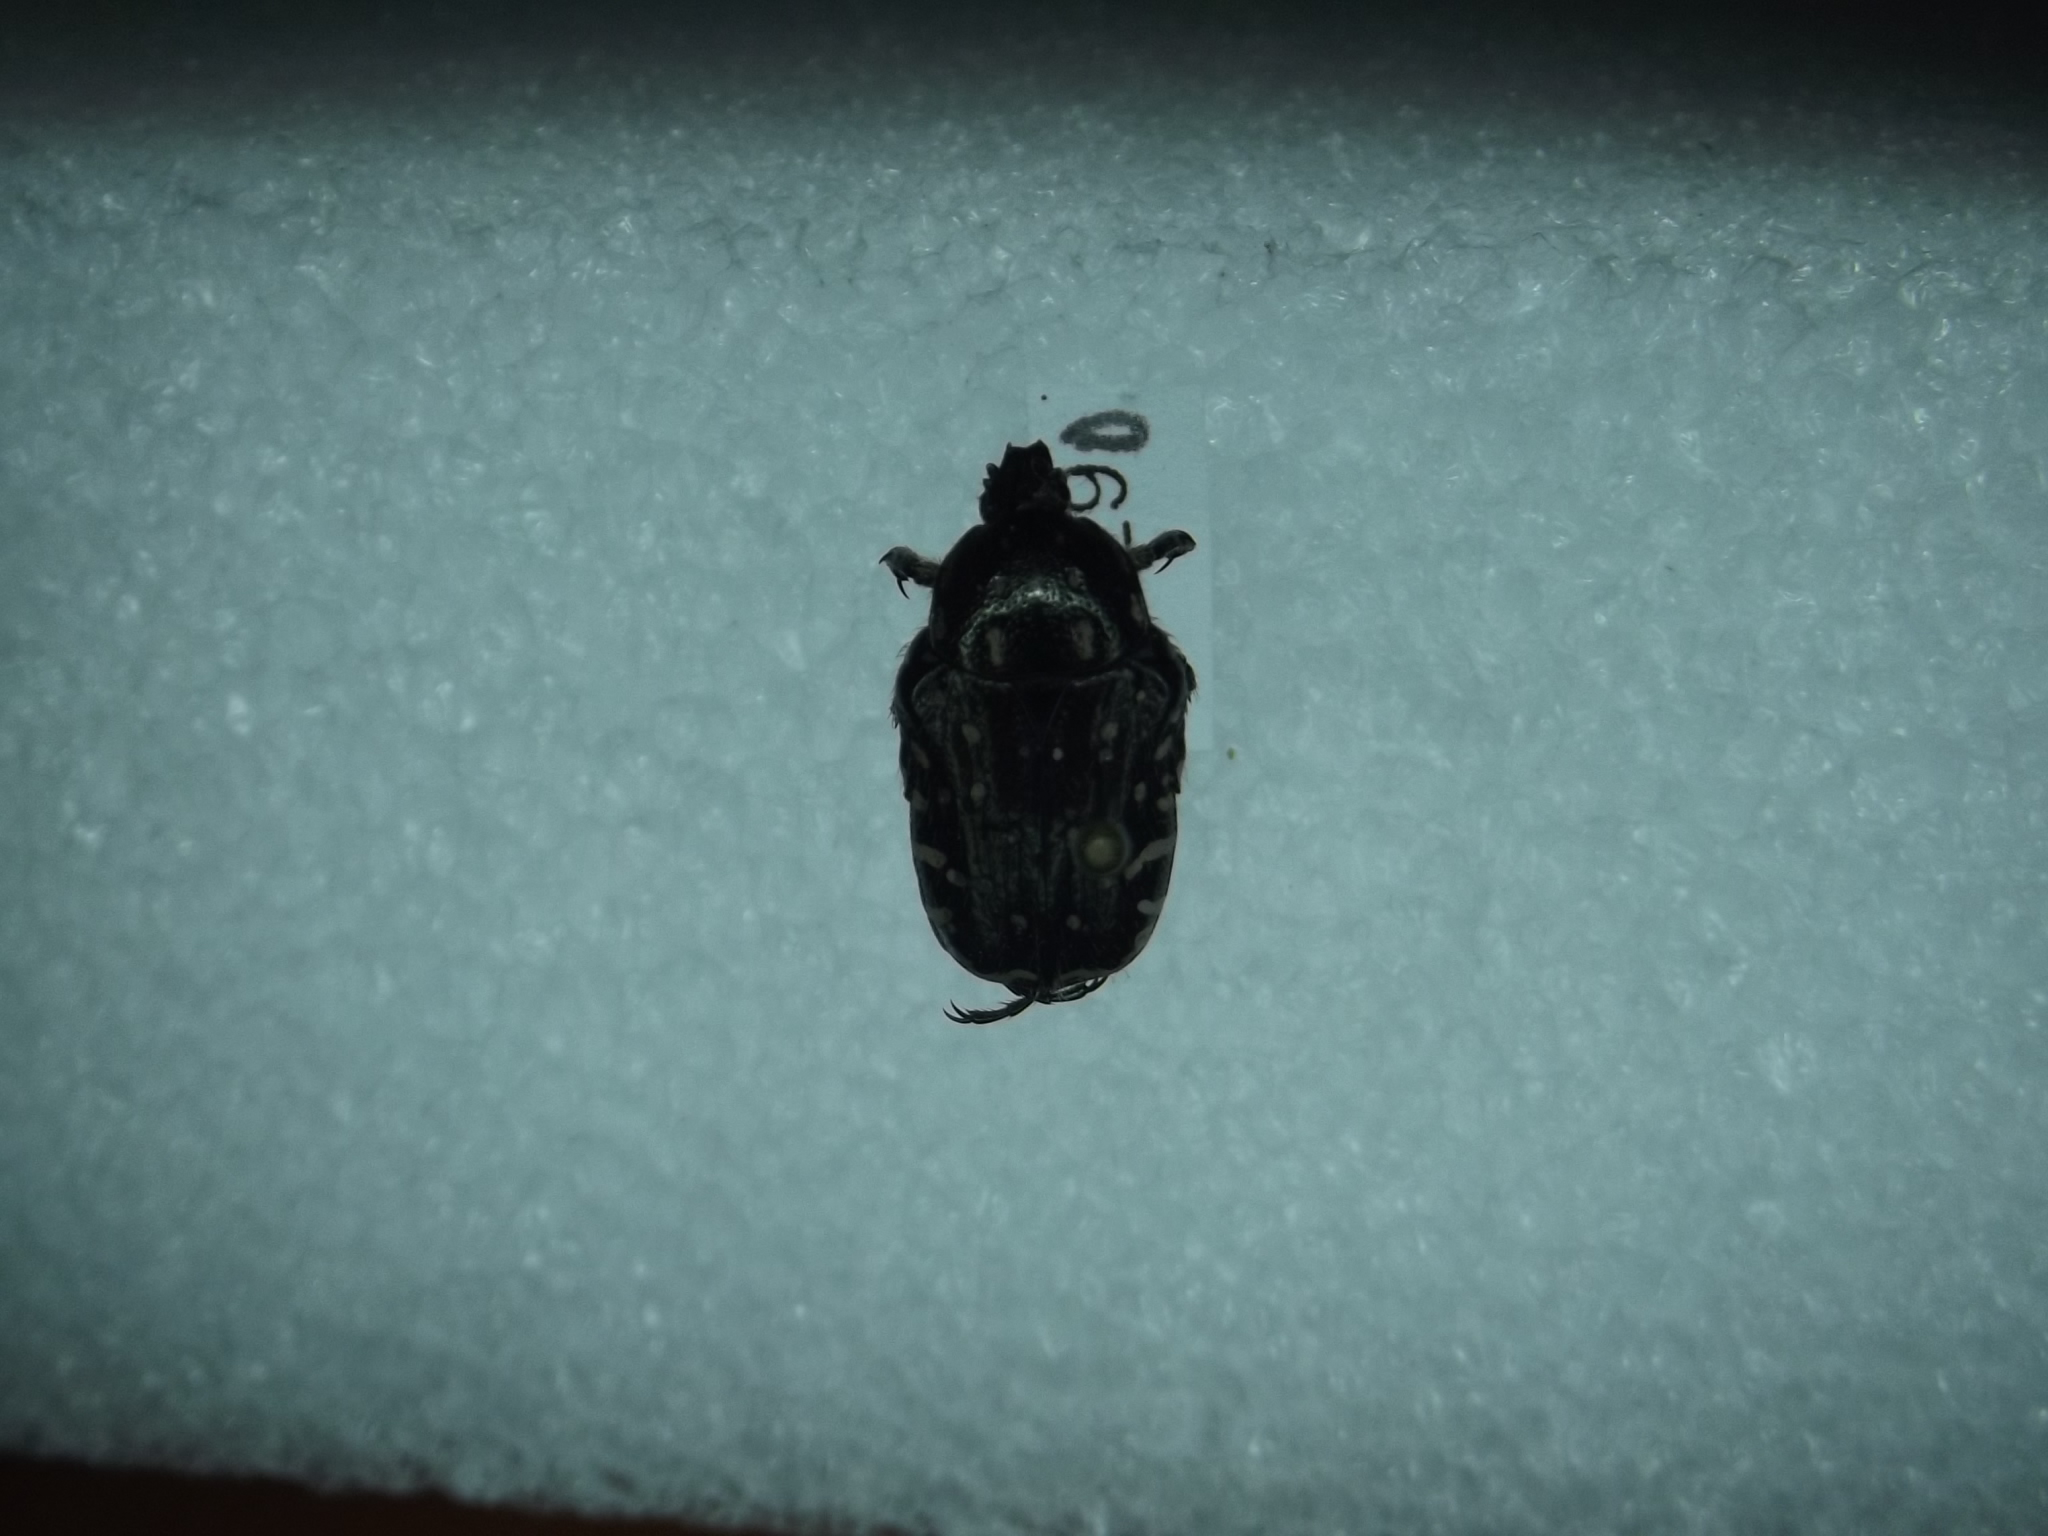Oxythyrea_funesta: (863, 424, 1224, 1068)
